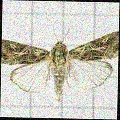Spodoptera litura: (2, 16, 118, 102)
